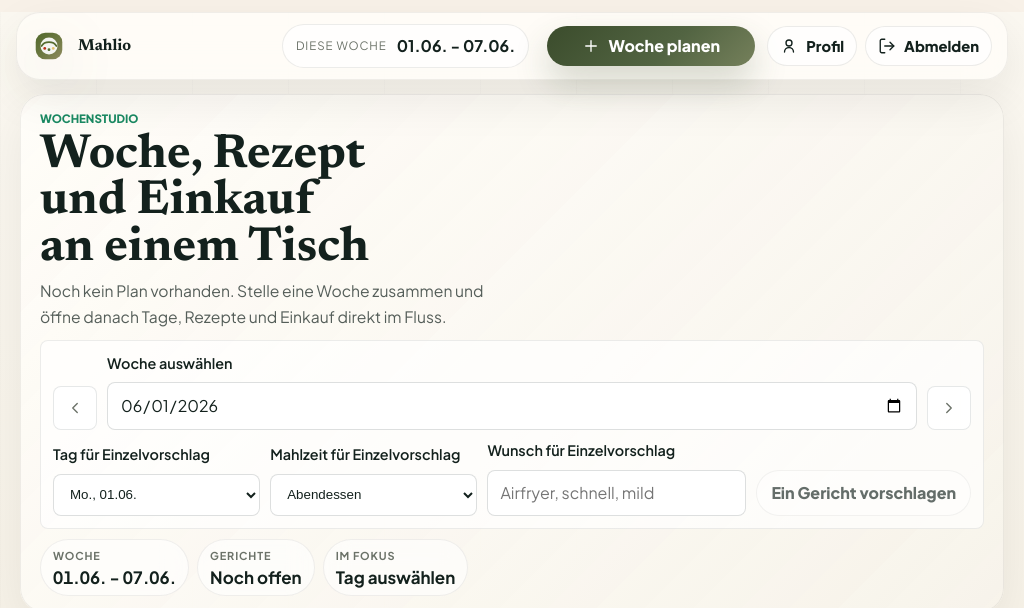
Test case: Mealplanner app › requests one new meal without rebuilding the whole week
Select "2026-04-13" in the dropdown labelled "Tag für Einzelvorschlag" at (157,495), box [53,474,260,516]
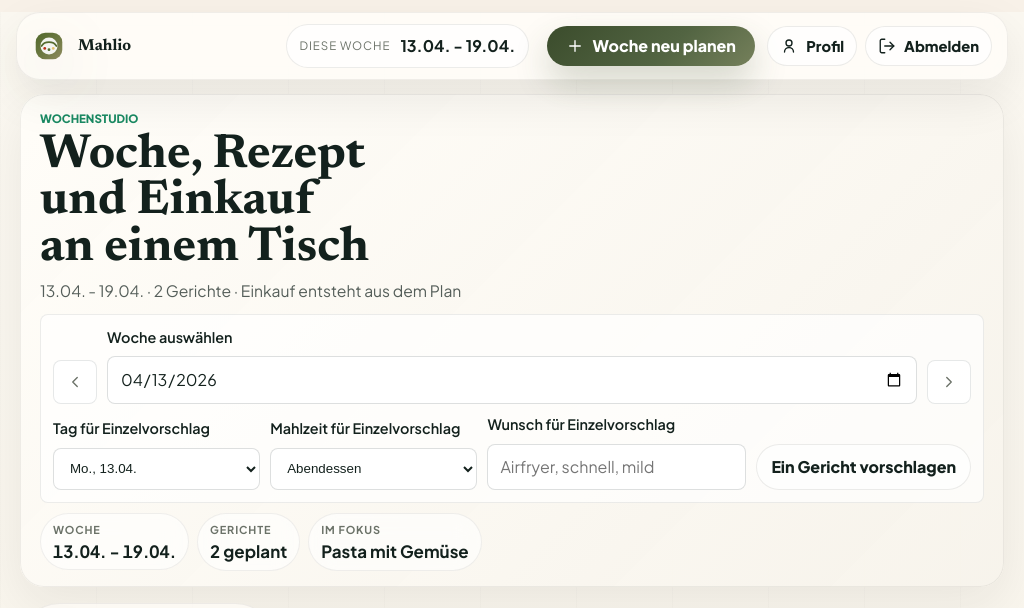
Select "Mittagessen" in the dropdown labelled "Mahlzeit für Einzelvorschlag" at (374,469), box [270,448,477,490]
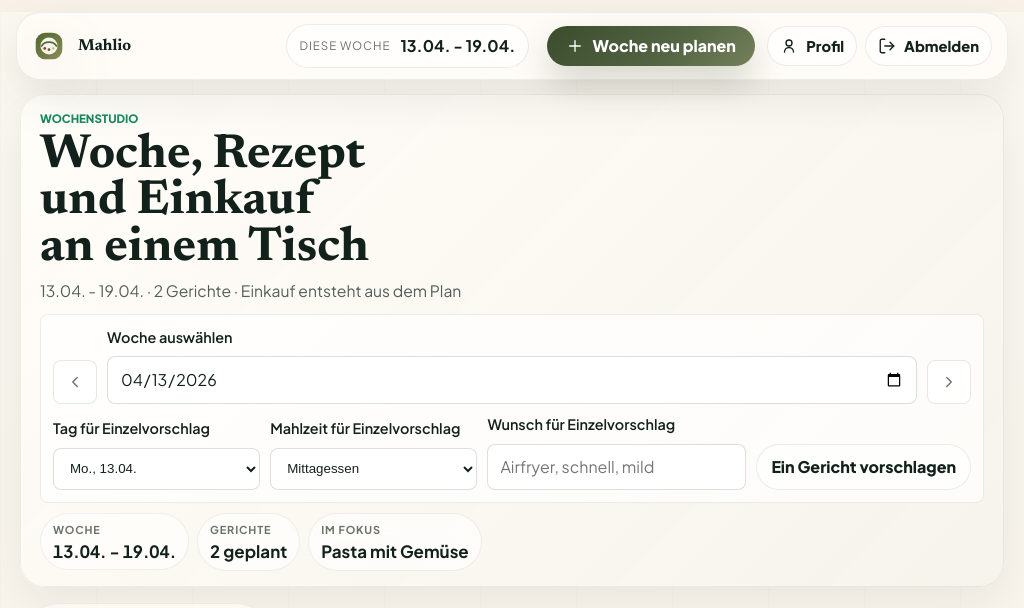
Type "Airfryer und schnell" into the field labelled "Wunsch für Einzelvorschlag" at (617,467), box [487,444,746,490]
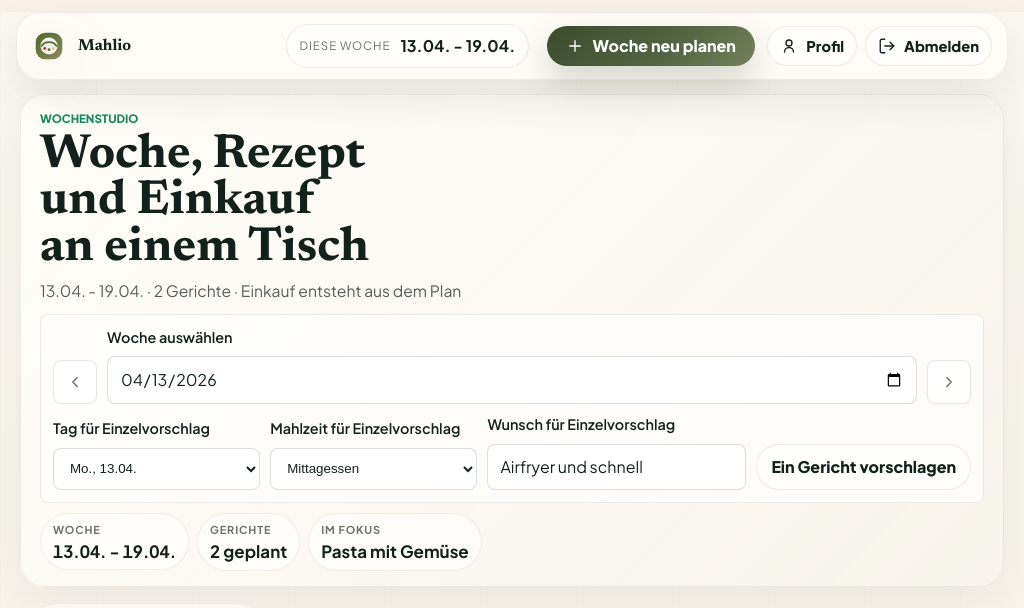
Click the button "Ein Gericht vorschlagen" at (864,467), box [756,444,971,490]
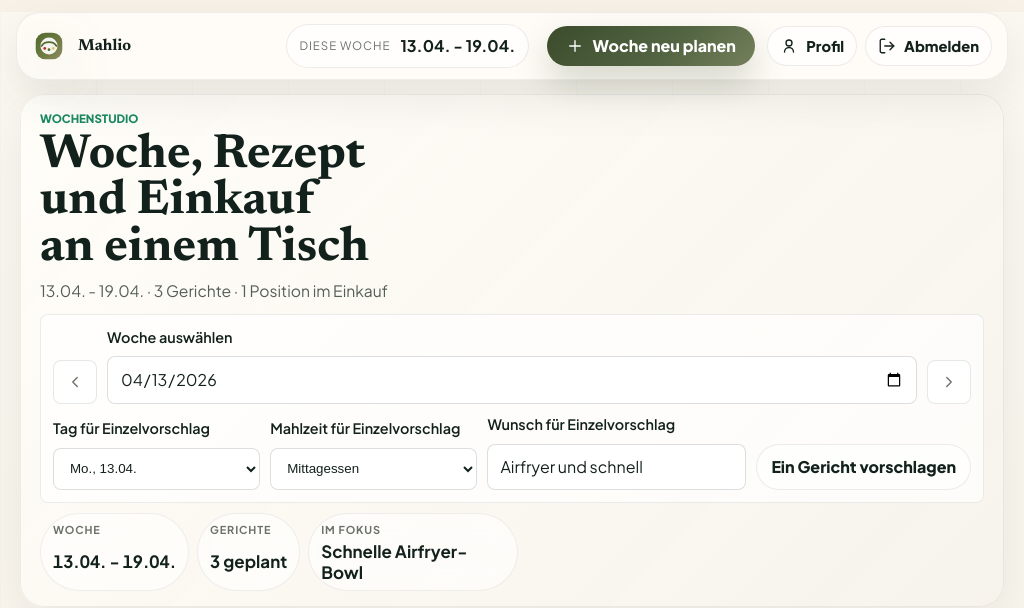
Check: the text "Schnelle Airfryer-Bowl" is shown, box [321,540,467,582]
